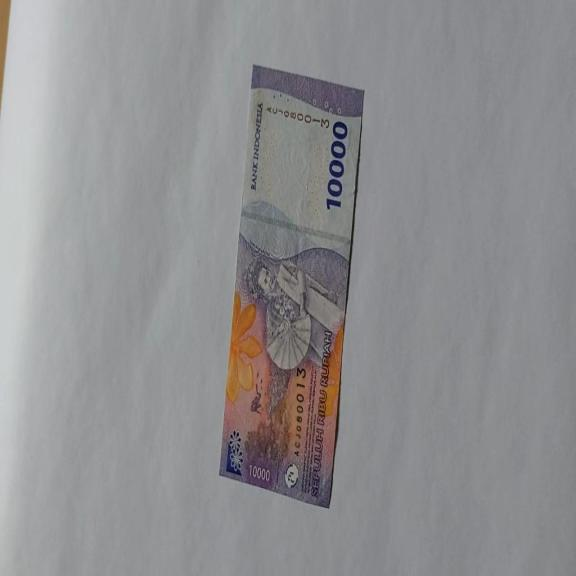Kertas: (217, 63, 365, 508)
